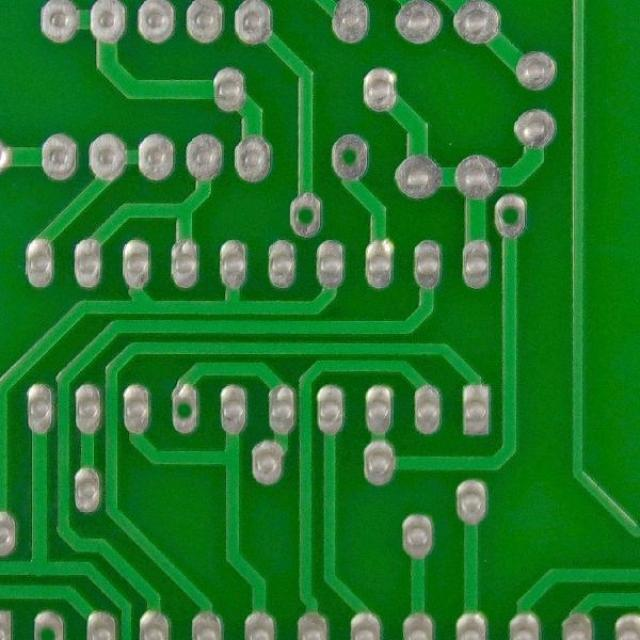missing_hole: (331, 135, 367, 178), (168, 390, 204, 432), (495, 200, 530, 236), (291, 198, 324, 232), (30, 620, 68, 639)
